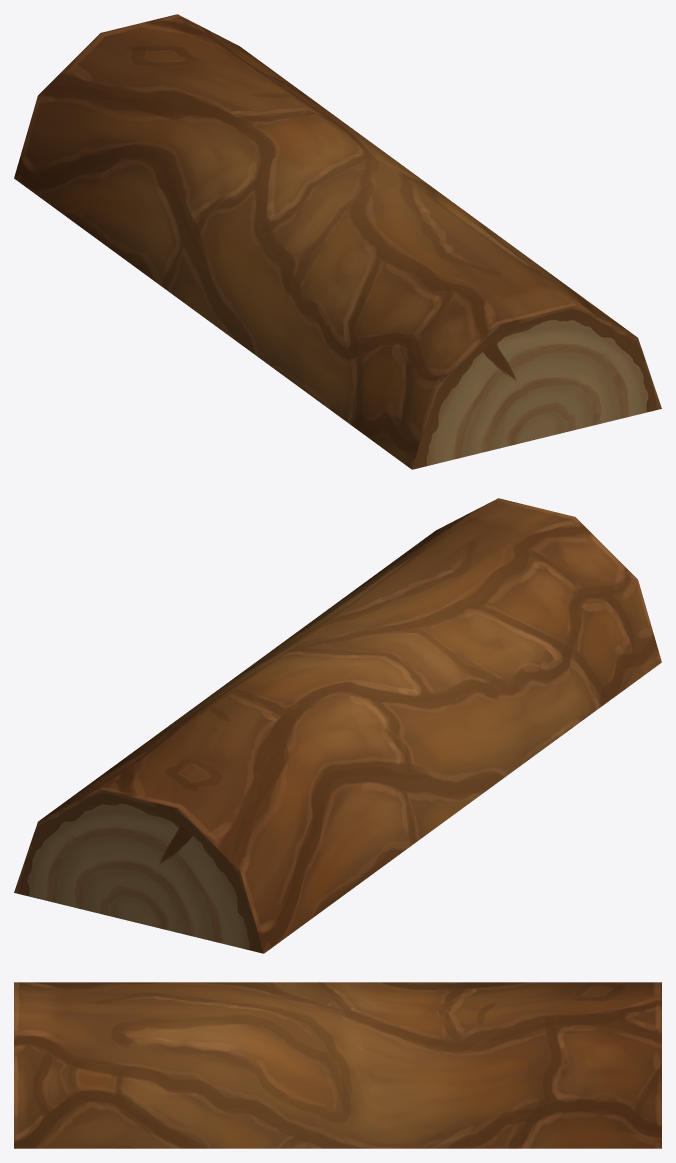
File: Log_2.FBX
3 views of the same model, one above another, from view 1: azimuth 30°, elevation 25°; view 2: azimuth 150°, elevation 25°; view 3: azimuth 270°, elevation 25° (orthographic). The views are drawn at different scales.
Visible parts, largest first — view 1: Log_2; view 2: Log_2; view 3: Log_2.
Part boxes in pixels (box(x1,y1,x2,y2)): Log_2: box(14, 14, 661, 469); Log_2: box(14, 498, 661, 953); Log_2: box(14, 982, 661, 1148).
Size of the model in its own units: 0.9 by 0.428 by 2.48.
